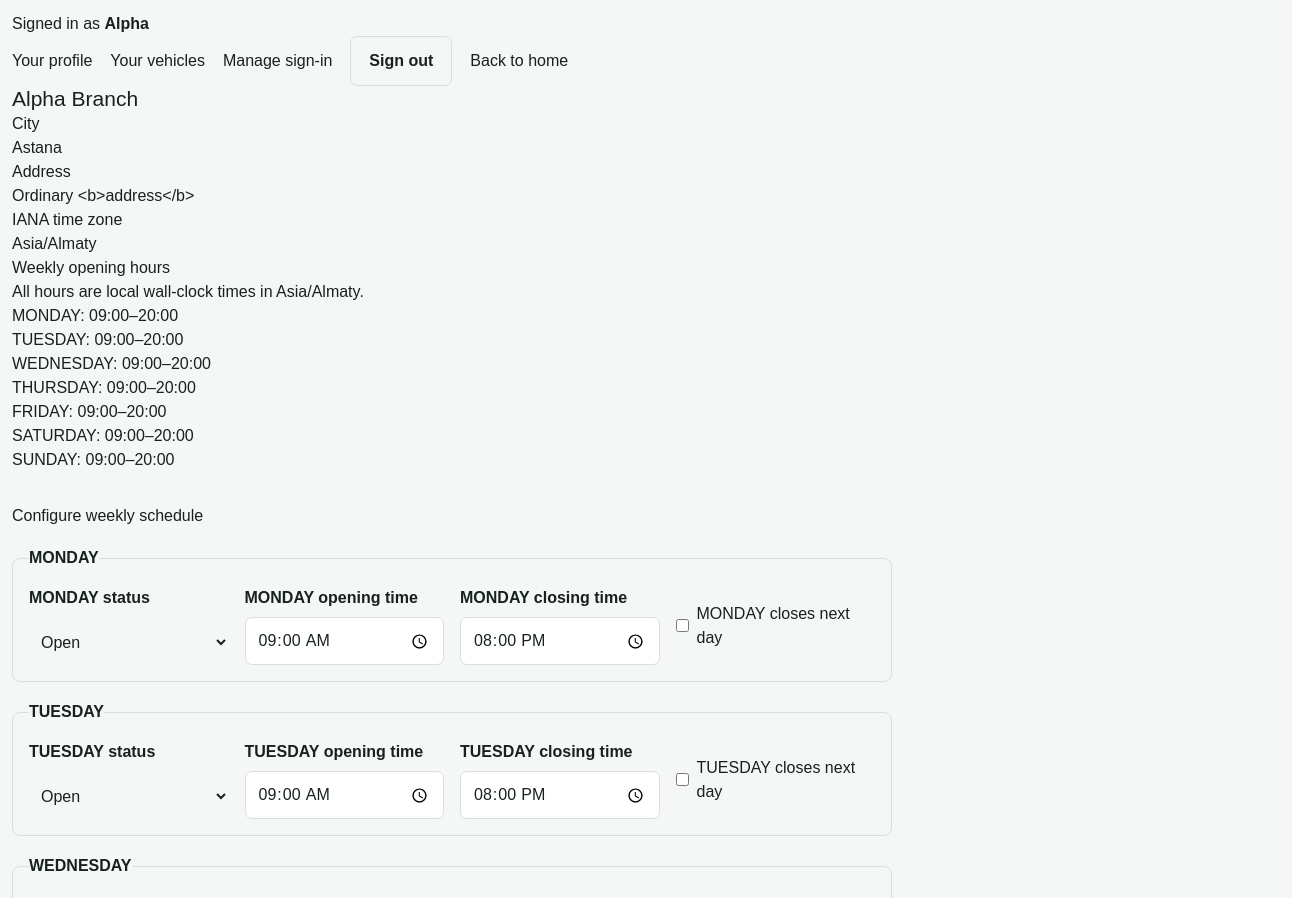
Test: protected branch UI and identity cache › prefills saved schedule, nulls irrelevant controls and renders address only as text
Expected: the time field labelled "MONDAY opening time" holds "09:00", [244,617,444,665]
Select "Open 24 hours" in the dropdown labelled "MONDAY status". click: (129, 642)
box: [29,619,228,665]
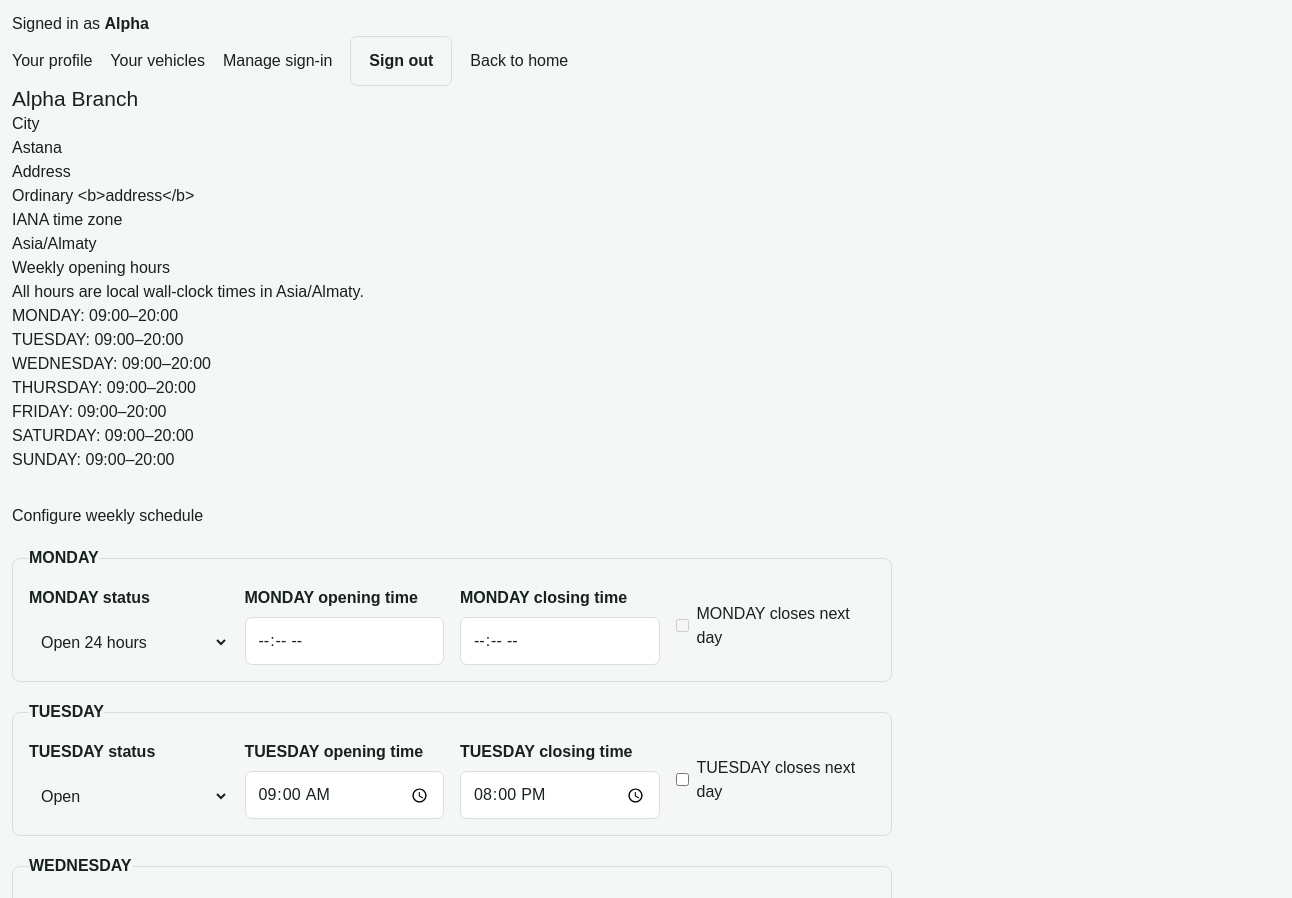
Result: the time field labelled "MONDAY opening time" is empty at [244,617,444,665]
Result: the time field labelled "MONDAY opening time" is disabled at [244,617,444,665]
